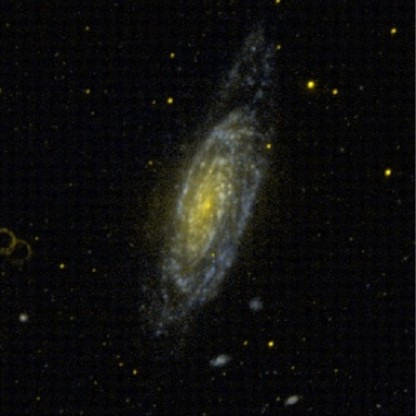NGC 3521: (105, 26, 329, 377)
